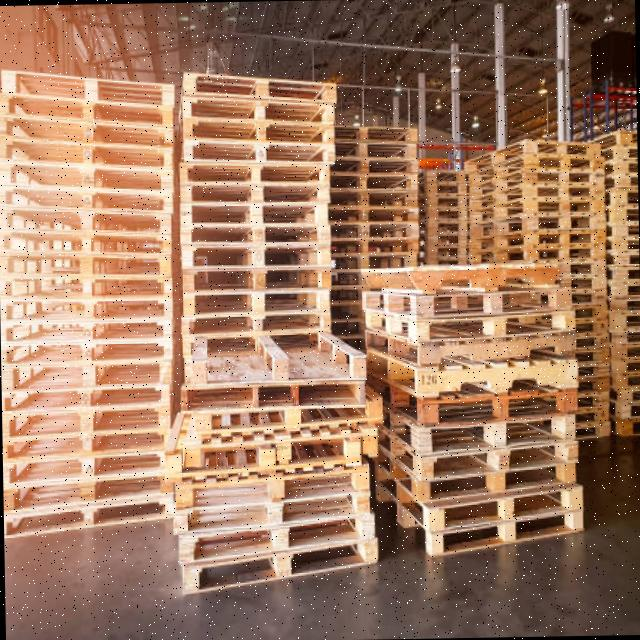Wooden-Pallets: (2, 69, 640, 598), (415, 486, 582, 530), (4, 156, 174, 199), (172, 503, 378, 538), (0, 290, 175, 330), (6, 91, 174, 131), (417, 384, 577, 424), (2, 227, 174, 264), (178, 128, 336, 168), (3, 358, 175, 392), (184, 92, 336, 130), (175, 220, 334, 254), (178, 262, 334, 296), (416, 447, 578, 478), (174, 176, 334, 207), (178, 312, 334, 338), (6, 436, 163, 458)
